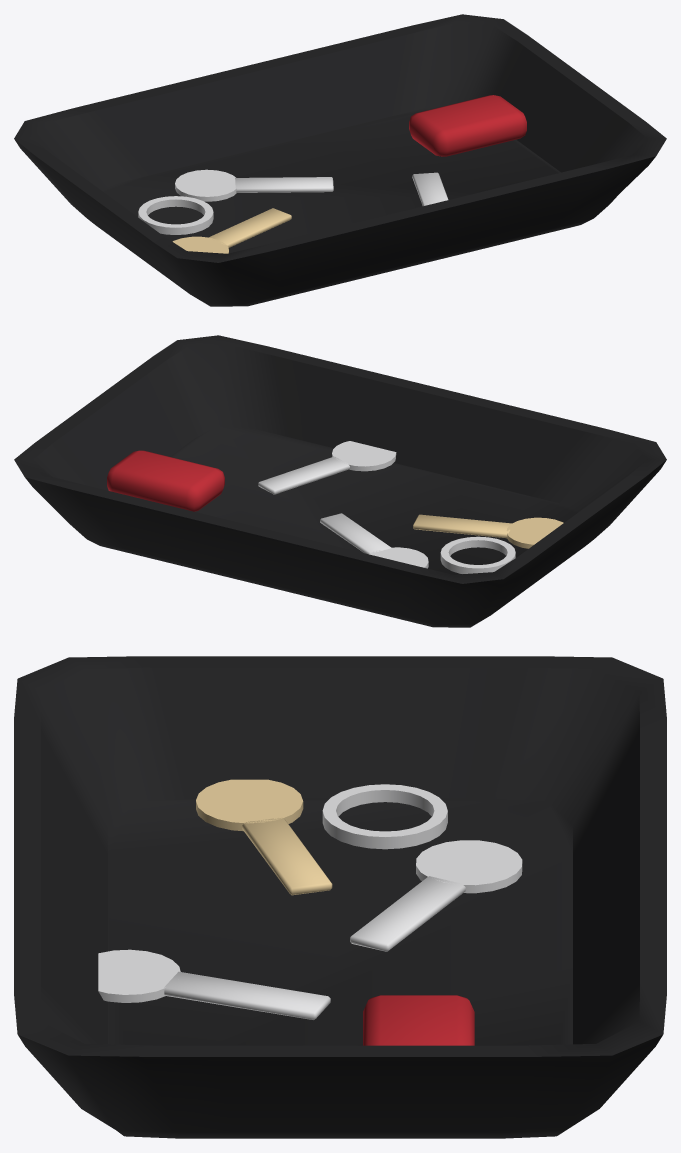
Rendered from recrs4pxcvjPkzg5h.glb.
The picture shows the model from 3 angles, top to bottom: view 1: azimuth 30°, elevation 25°; view 2: azimuth 150°, elevation 25°; view 3: azimuth 270°, elevation 25°; orthographic projection. The views are drawn at different scales.
Visible parts, largest first — view 1: Vide_Poche_Corps; view 2: Vide_Poche_Corps; view 3: Vide_Poche_Corps.
Part boxes in pixels (<box>): Vide_Poche_Corps: <box>14,14,666,306</box>; Vide_Poche_Corps: <box>14,335,666,627</box>; Vide_Poche_Corps: <box>14,656,666,1138</box>.
Bounding box in the file's own units: 0.212 × 0.03 × 0.146.
